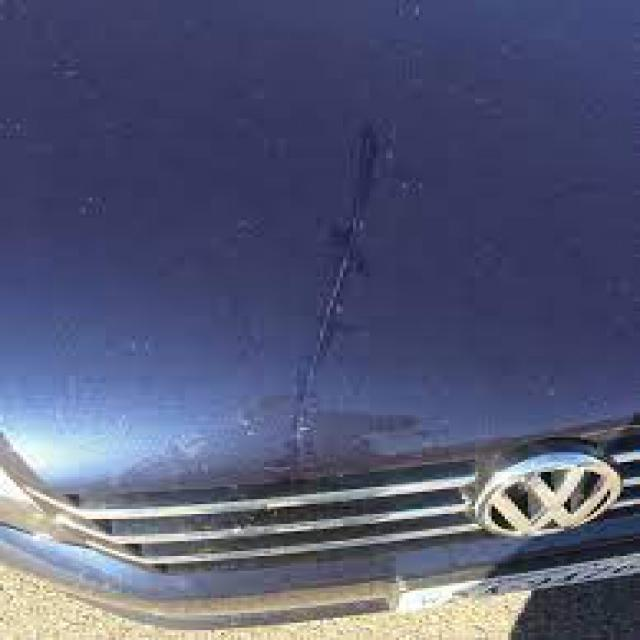bonnet-dent: (0, 8, 636, 569)
